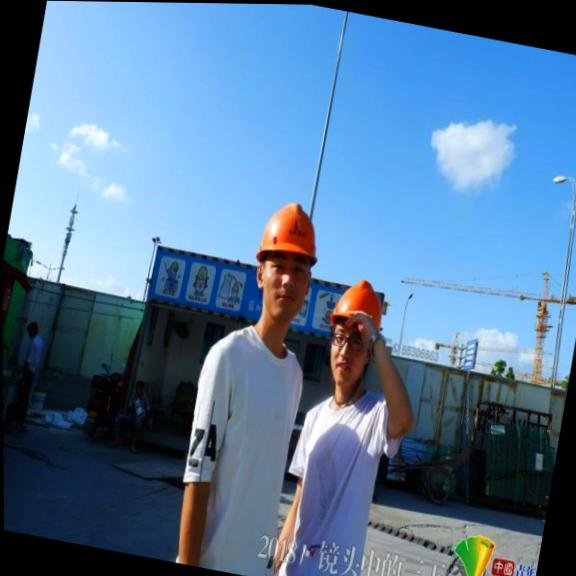no_safety_vest: (188, 322, 316, 565), (276, 372, 397, 576)
